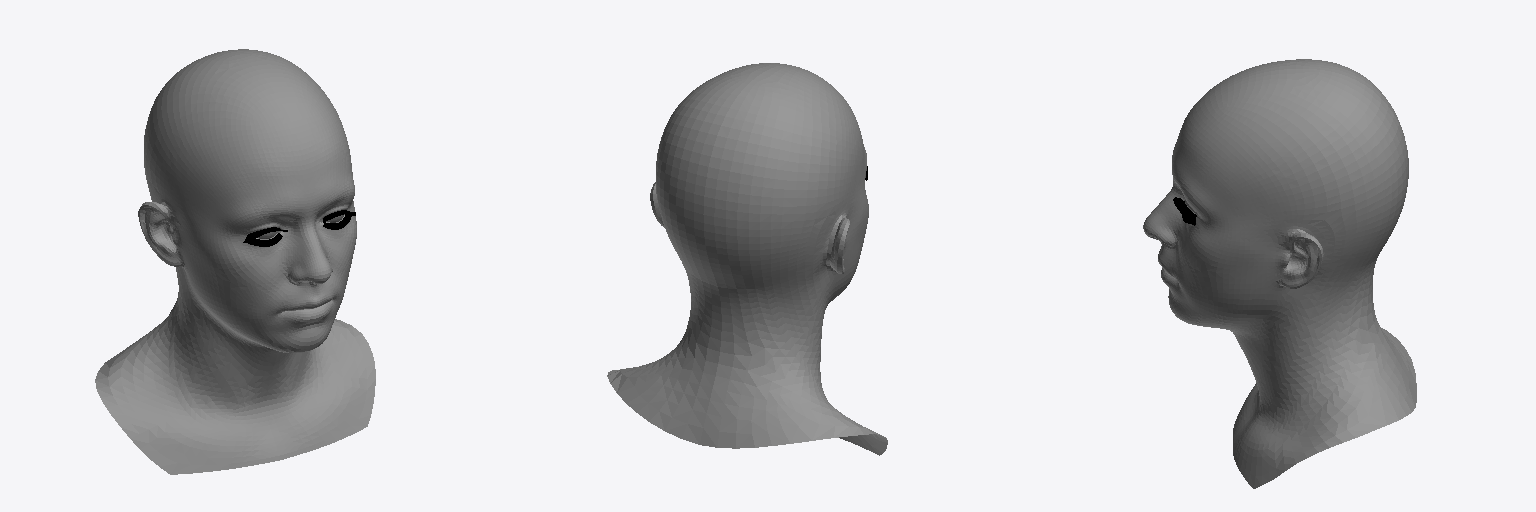
Rendered from identity030.obj.
The picture shows the model from 3 angles: view 1: azimuth 30°, elevation 25°; view 2: azimuth 150°, elevation 25°; view 3: azimuth 270°, elevation 25°; orthographic projection.
Size of the model in its own units: 24.87 by 33.85 by 22.41.